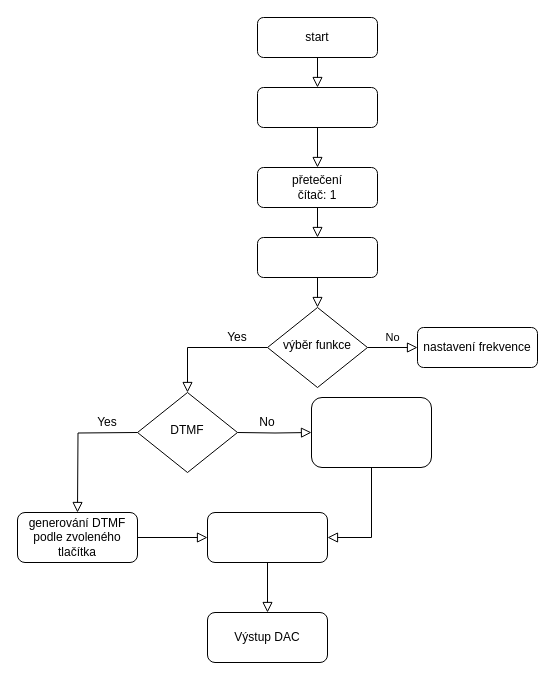
Image size: 555x680. Some labels were removed from this diagram. The shapes that lost their labels are listed below. From the top down, each one's box as (x1, y1, x2, y2) in pixels, then its label:
(256, 86, 378, 128): sin 10Hz
(256, 236, 378, 278): načtení tlačítka na klávesnici
(310, 396, 432, 468): Generování sin/rap/sqr podle zadané frekvence
(206, 512, 328, 562): přetečení čítač: 0
